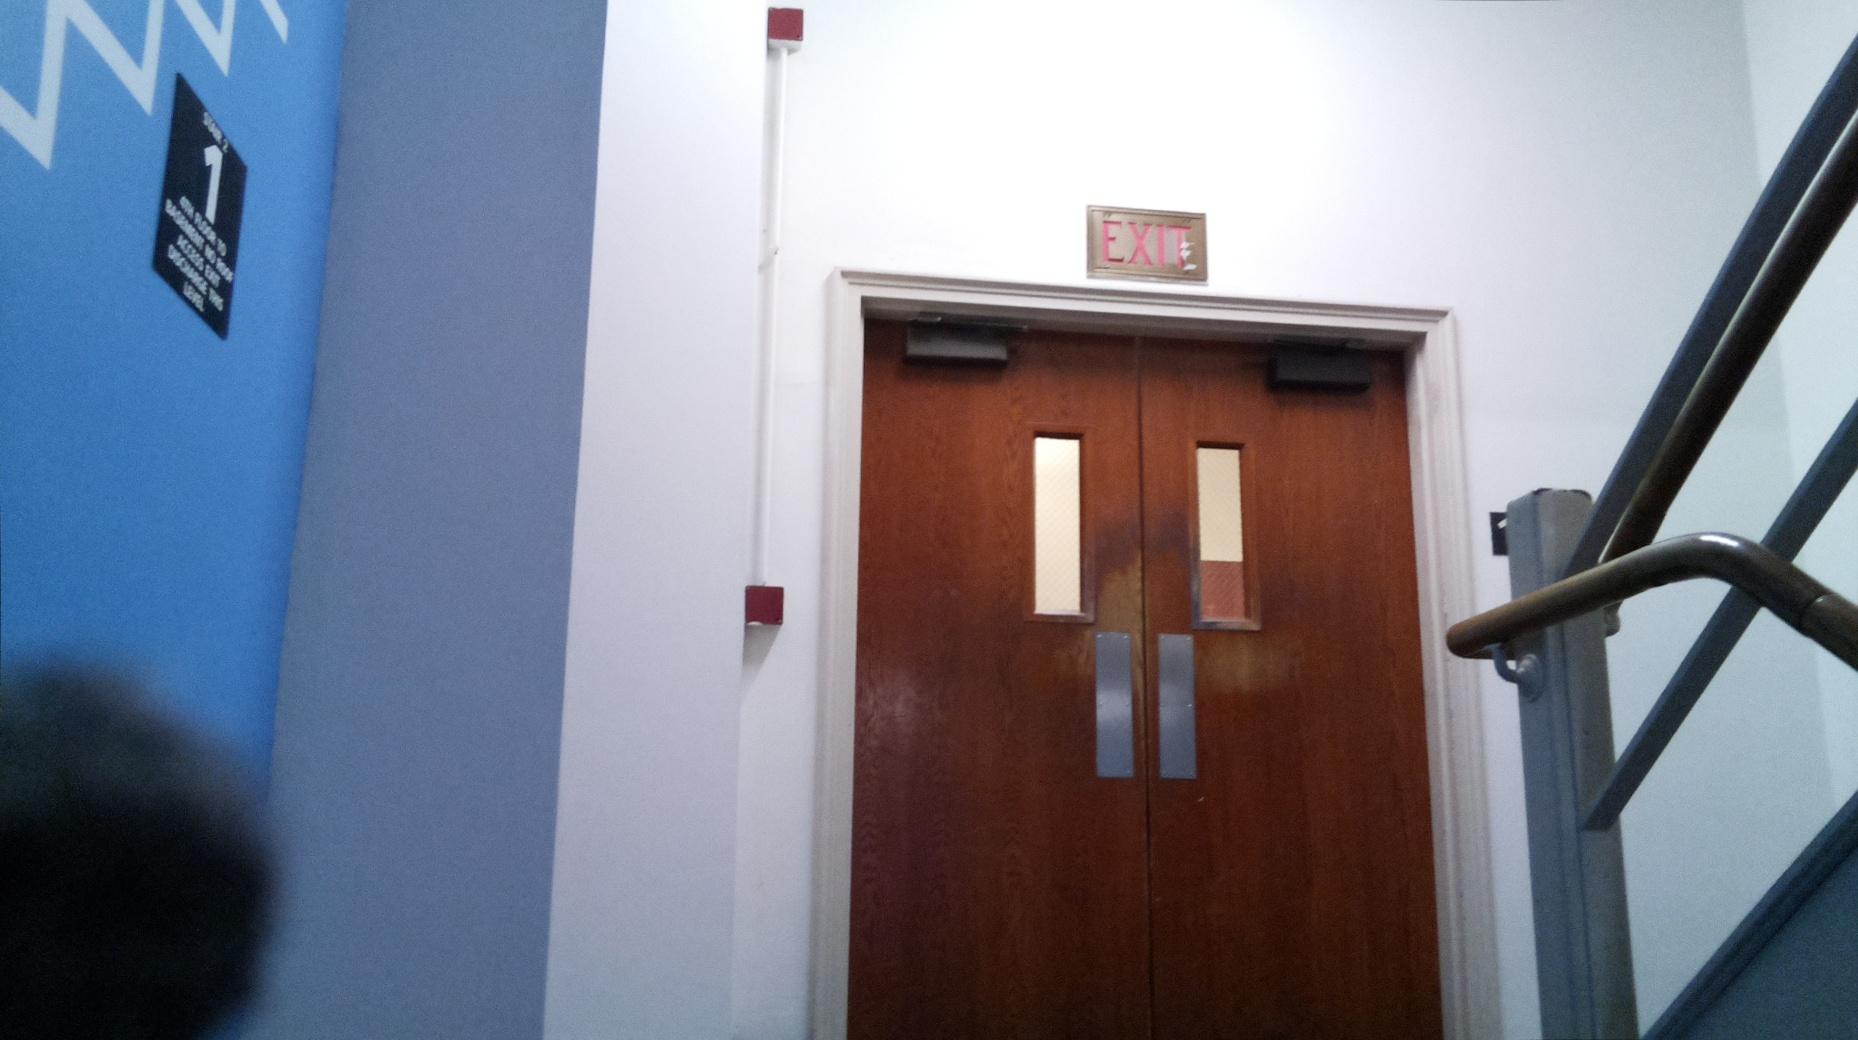exit sign: (1082, 199, 1214, 290)
